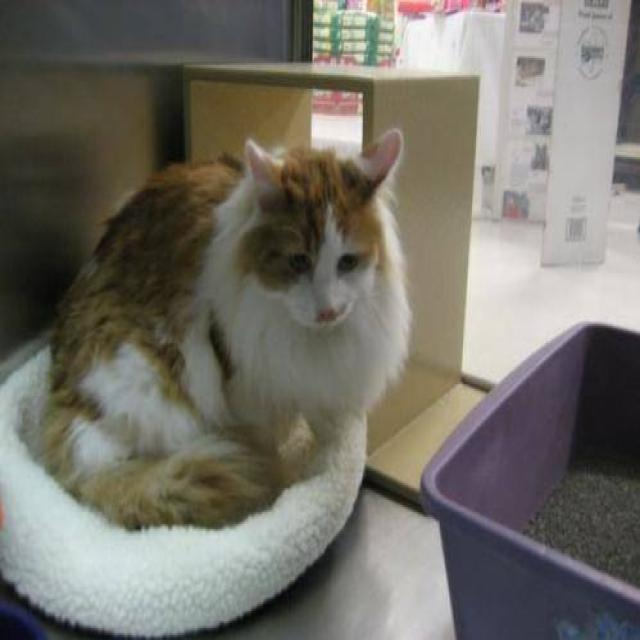cat: (37, 124, 413, 530)
